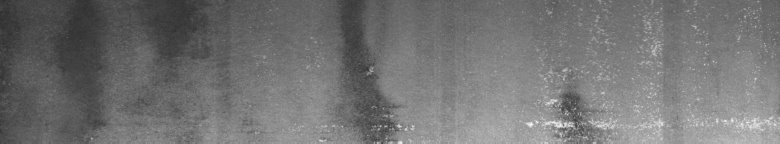hc: (324, 63, 414, 136)
